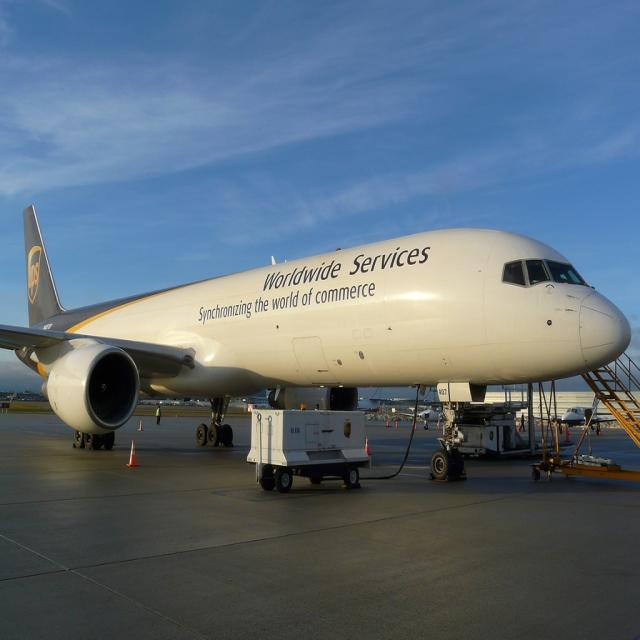ups: (28, 245, 42, 306)
